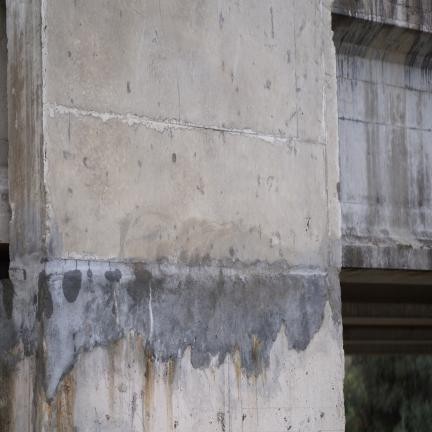pier bridge: (4, 3, 348, 431)
spalling: (14, 257, 340, 393)
